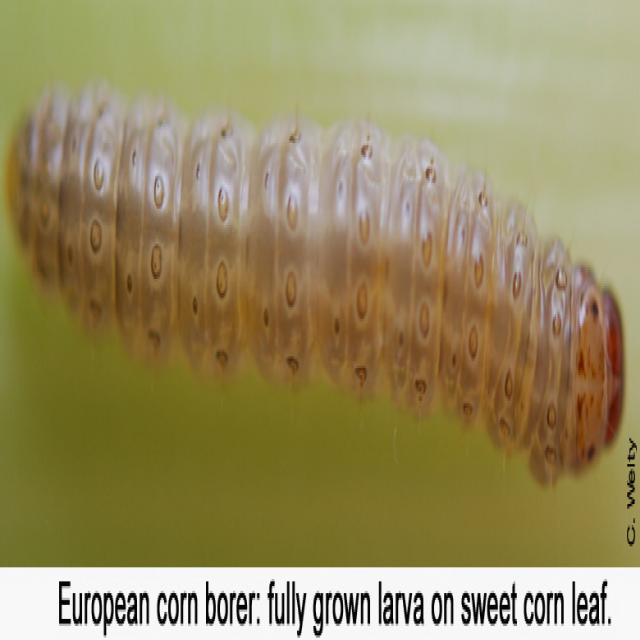cornborer-Larva-: (7, 70, 625, 499)
